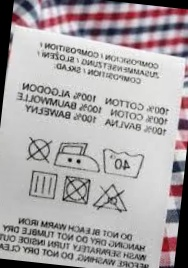40C: (99, 146, 146, 181)
DN_dry_clean: (24, 135, 54, 165)
DN_tumble_dry: (61, 174, 94, 208)
drip_dry: (27, 168, 60, 204)
iron_medium: (53, 140, 103, 175)
non_chlorine_bleach: (93, 182, 131, 215)
